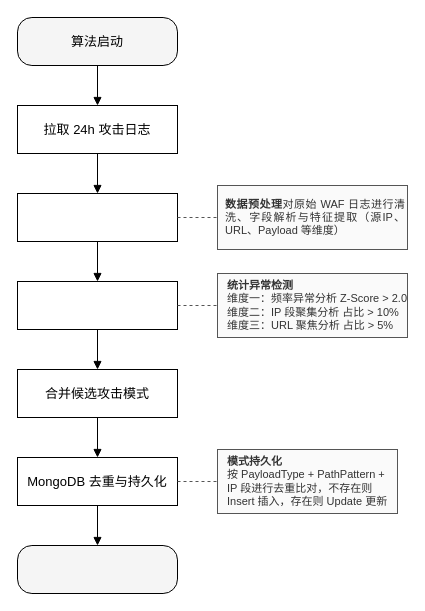
Some shapes in this 425 by 611 pixel diagram are drawn without their labels. Each missing label, with the box of its shape:
三维度异常检测: (16, 280, 178, 330)
特征提取与向量化: (16, 192, 178, 242)
输出攻击模式列表: (16, 544, 178, 594)
